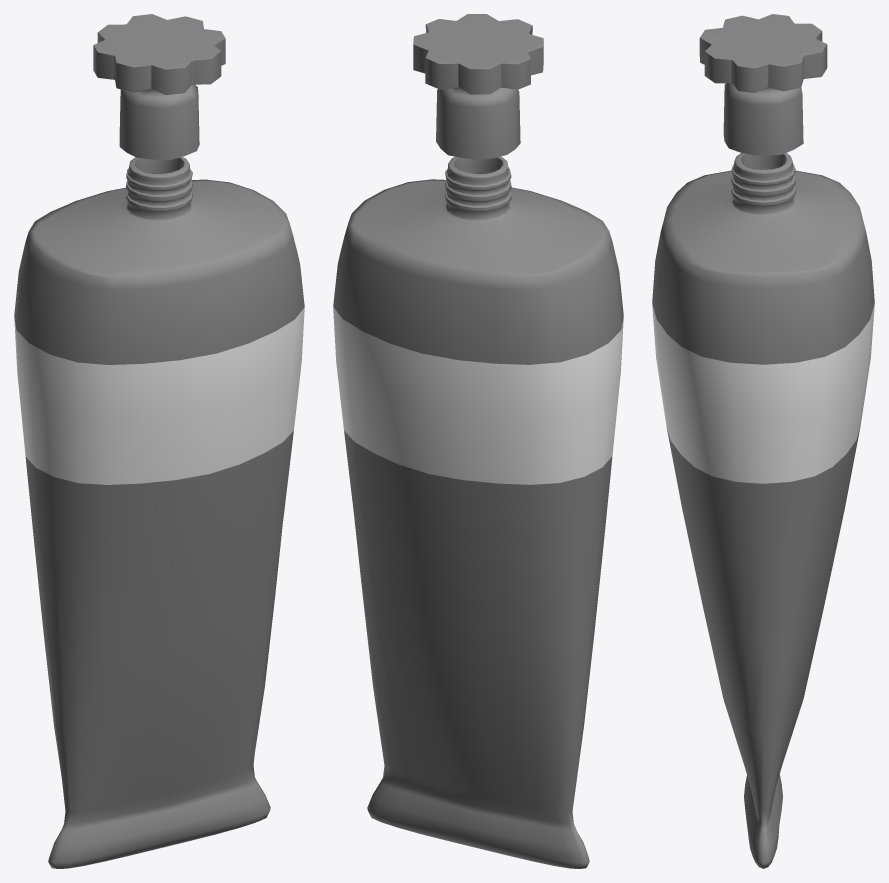
Rendered from paints.fbx.
3 views of the same model, side by side, from view 1: azimuth 30°, elevation 25°; view 2: azimuth 150°, elevation 25°; view 3: azimuth 270°, elevation 25° (orthographic). The views are drawn at different scales.
Visible parts, largest first — view 1: polySurface1, polySurface2; view 2: polySurface1, polySurface2; view 3: polySurface1, polySurface2.
Part boxes in pixels (<box>): polySurface1: <box>14,157,304,868</box>; polySurface2: <box>93,14,225,160</box>; polySurface1: <box>333,156,623,868</box>; polySurface2: <box>413,14,543,159</box>; polySurface1: <box>652,152,874,868</box>; polySurface2: <box>699,14,827,155</box>.
Size of the model in its own units: 1.29 by 3.81 by 0.9823.
